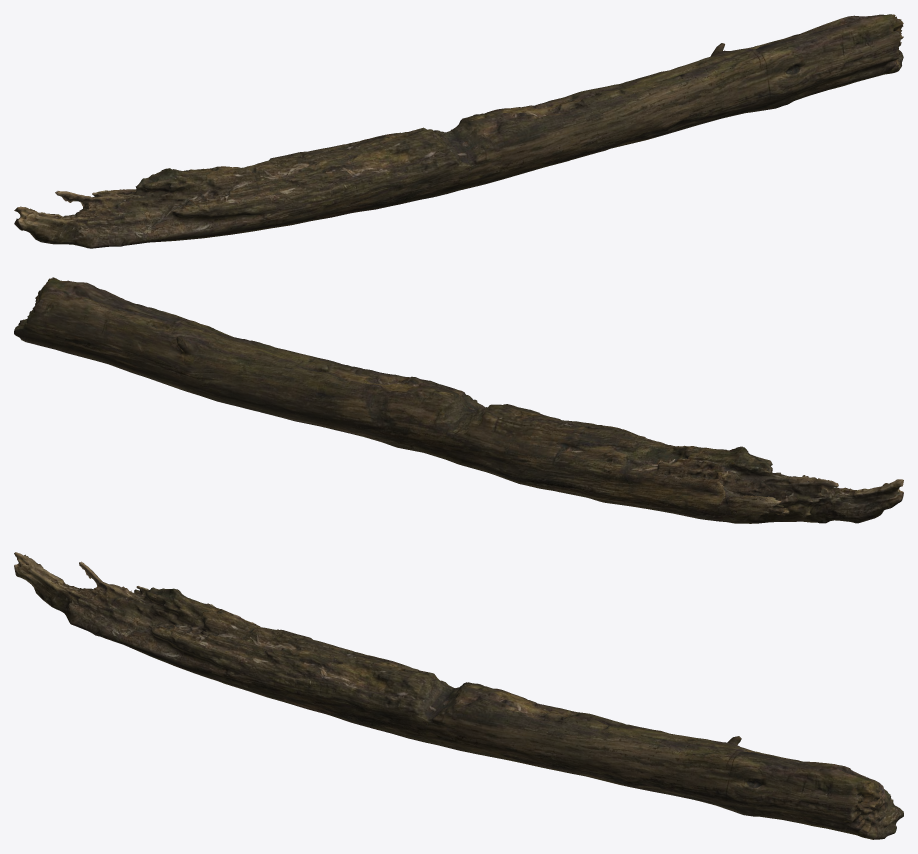
The model's file is Log_a.glb.
The picture shows the model from 3 angles, top to bottom: view 1: azimuth 30°, elevation 25°; view 2: azimuth 150°, elevation 25°; view 3: azimuth 330°, elevation 25°; orthographic projection.
Visible parts, largest first — view 1: dead_tree_trunk; view 2: dead_tree_trunk; view 3: dead_tree_trunk.
Part boxes in pixels (x1,y1,x2,y2): dead_tree_trunk: (14, 14, 903, 248); dead_tree_trunk: (14, 277, 903, 523); dead_tree_trunk: (14, 552, 903, 839).
Size of the model in its own units: 3.05 by 0.2905 by 0.2775.
Materials: 1 (1 with a texture image).
